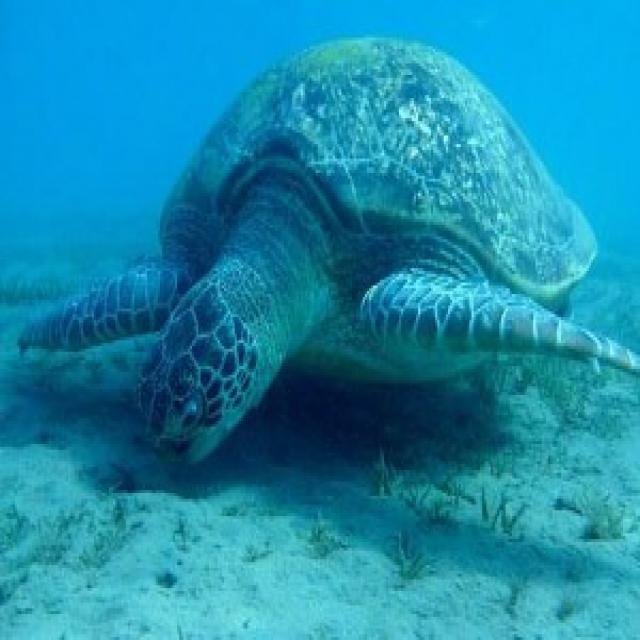Sea turtle: (11, 36, 640, 463)
